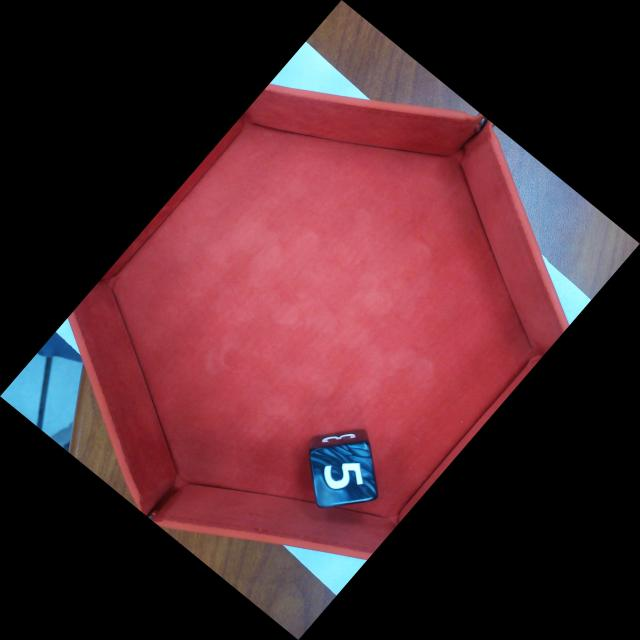dice: (309, 444, 379, 507)
